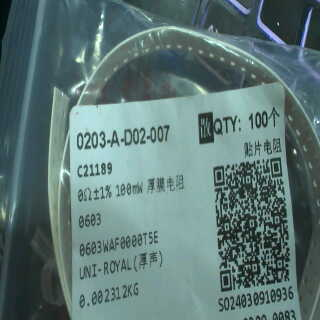0R: (74, 179, 145, 229)
